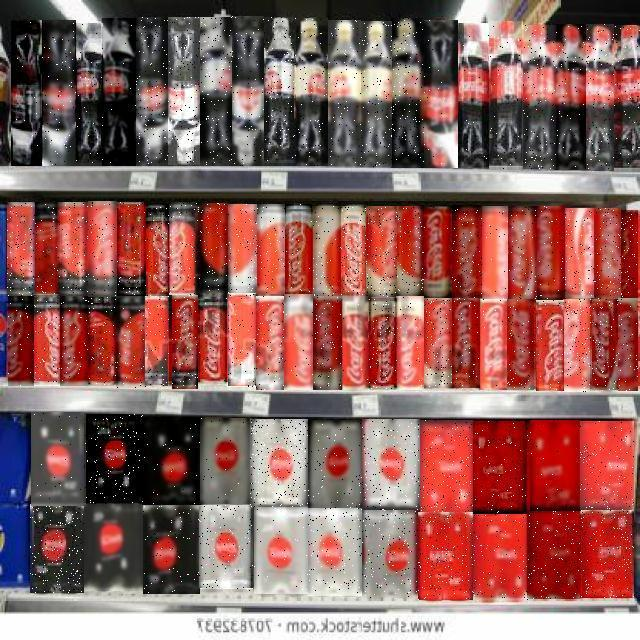Drinks: (84, 503, 144, 591), (362, 419, 420, 510), (85, 414, 143, 504), (474, 421, 530, 514), (142, 417, 201, 505), (143, 504, 200, 594), (250, 419, 308, 507), (392, 18, 426, 168), (32, 412, 86, 506), (489, 22, 523, 170), (424, 20, 458, 168), (295, 19, 329, 167), (102, 19, 136, 167), (420, 420, 474, 512), (12, 20, 46, 166), (231, 16, 264, 166), (473, 514, 529, 602), (362, 510, 418, 598), (522, 25, 556, 169), (135, 18, 168, 166), (418, 512, 473, 600), (308, 420, 363, 508), (328, 20, 361, 166), (527, 510, 581, 599), (30, 504, 84, 593), (309, 507, 363, 596), (581, 421, 635, 510), (456, 23, 489, 168), (580, 510, 634, 598), (254, 506, 308, 594), (264, 18, 296, 166), (200, 18, 232, 166), (168, 17, 200, 165), (44, 20, 76, 166), (554, 25, 586, 171), (360, 21, 392, 167), (199, 506, 253, 592), (530, 420, 581, 511), (200, 419, 252, 505), (586, 25, 614, 171), (75, 24, 103, 166), (614, 26, 640, 172), (198, 294, 228, 390), (116, 294, 146, 388), (116, 202, 146, 296), (312, 296, 342, 390), (452, 205, 482, 298), (226, 204, 257, 294), (88, 201, 117, 297), (284, 295, 313, 391), (227, 294, 256, 390), (198, 203, 228, 294), (564, 208, 594, 298), (537, 206, 565, 300), (509, 206, 537, 300), (481, 206, 509, 300), (61, 202, 89, 296), (34, 202, 62, 296), (7, 202, 35, 296), (396, 296, 424, 390), (341, 296, 369, 390), (256, 296, 284, 390), (88, 296, 117, 386), (172, 202, 200, 295), (564, 299, 592, 392), (593, 208, 621, 300), (369, 298, 397, 390), (425, 207, 453, 298), (369, 206, 397, 297), (536, 300, 564, 391), (508, 299, 536, 390), (479, 299, 507, 390), (60, 296, 88, 386), (398, 206, 426, 296), (342, 206, 370, 296), (313, 206, 341, 296), (285, 204, 313, 294), (257, 204, 285, 294), (452, 298, 480, 388), (425, 298, 453, 388), (173, 293, 199, 389), (146, 204, 172, 298), (34, 294, 60, 386), (593, 299, 619, 390), (146, 296, 172, 386), (8, 296, 34, 386), (619, 298, 639, 391), (620, 211, 638, 299)
